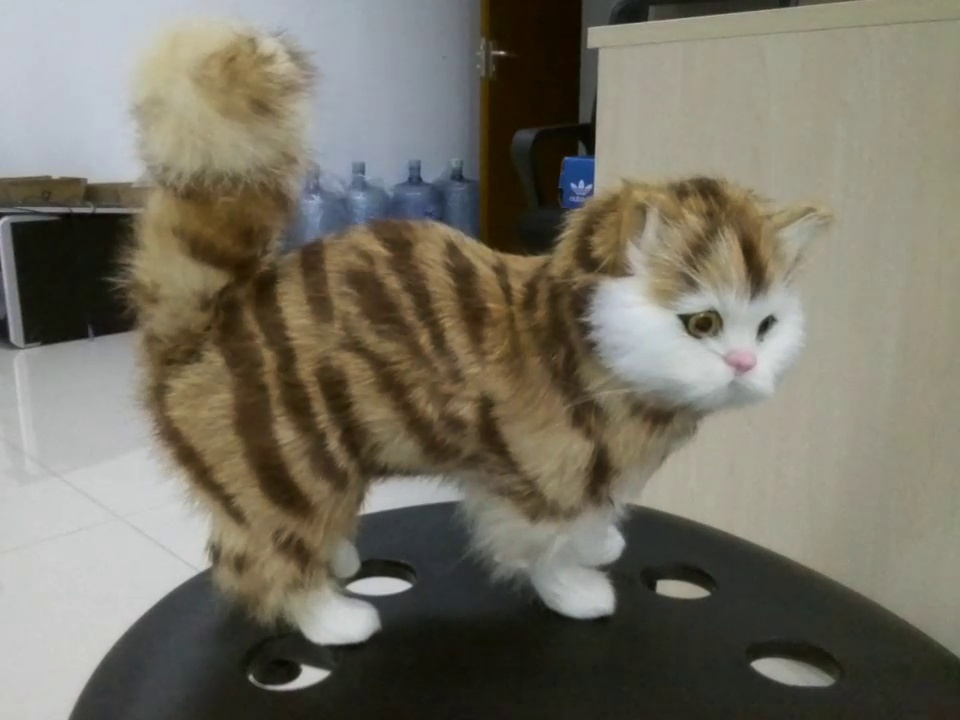cat: (124, 16, 836, 652)
